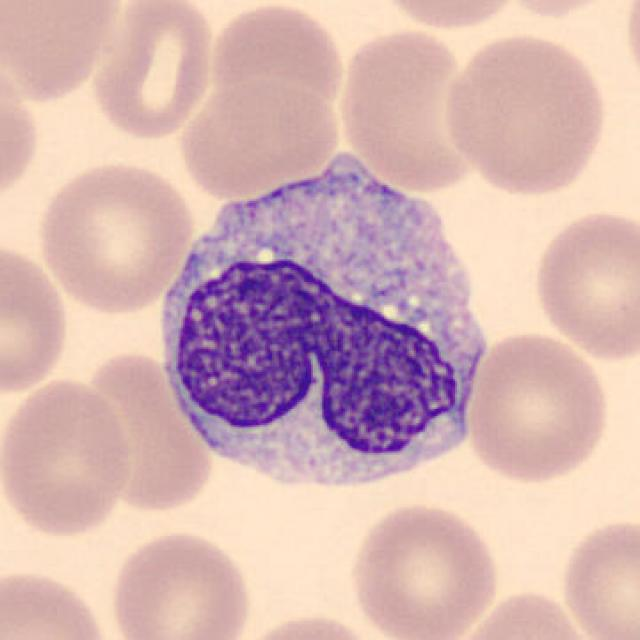Monocyte: (149, 138, 502, 513)
RBC: (438, 28, 612, 199), (32, 156, 197, 318), (334, 25, 482, 194), (461, 328, 614, 487), (343, 497, 503, 640), (0, 374, 137, 541), (174, 74, 343, 201), (87, 0, 219, 143), (204, 0, 350, 123), (528, 205, 638, 363), (105, 525, 256, 640), (0, 0, 128, 104), (0, 240, 73, 396), (554, 513, 640, 640), (0, 564, 121, 640), (447, 585, 598, 640), (0, 47, 44, 215), (370, 0, 528, 33), (233, 610, 382, 640), (492, 0, 632, 19), (620, 2, 640, 100)
